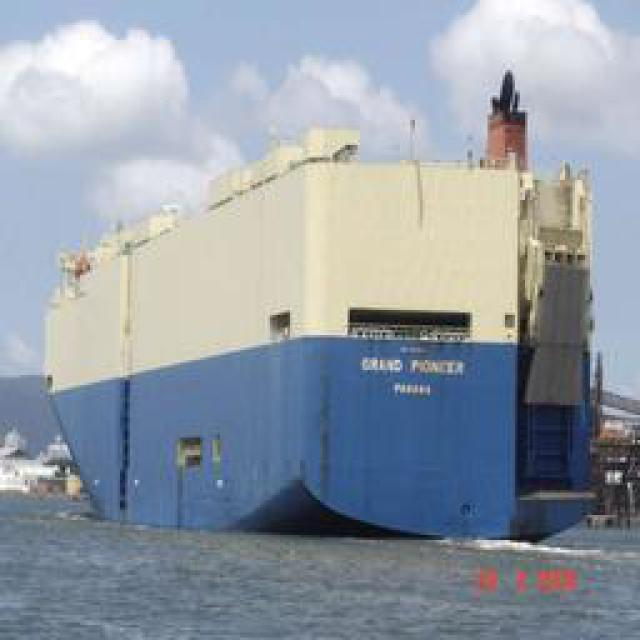Ship: (36, 64, 615, 546)
